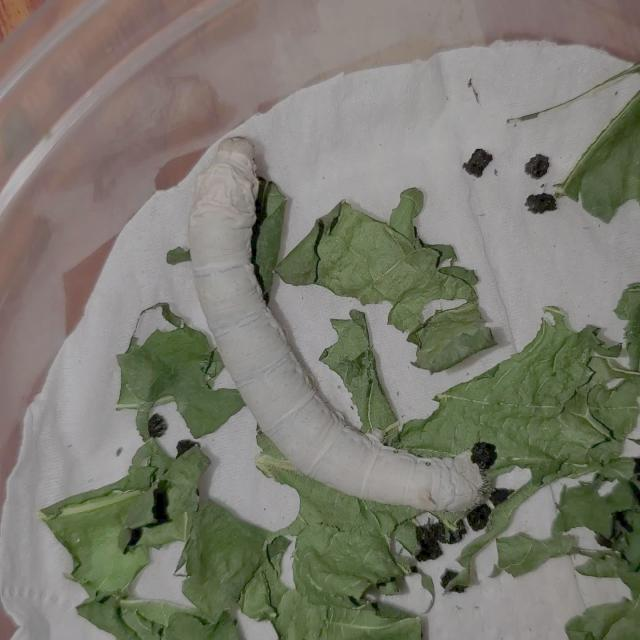Healthy: (180, 121, 491, 527)
